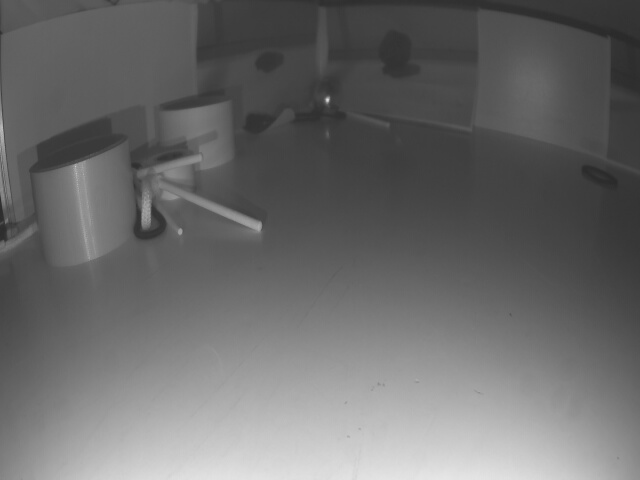Live: (311, 81, 338, 113)
